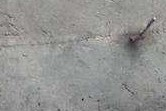Exposed reinforcement: (139, 16, 157, 37)
